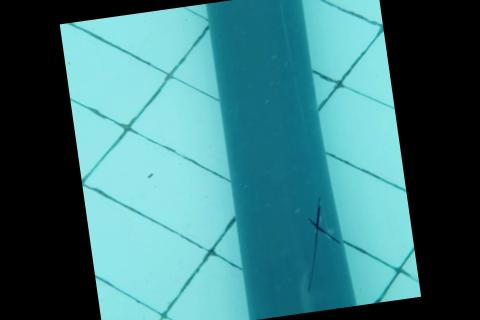keretakan: (291, 192, 346, 293)
